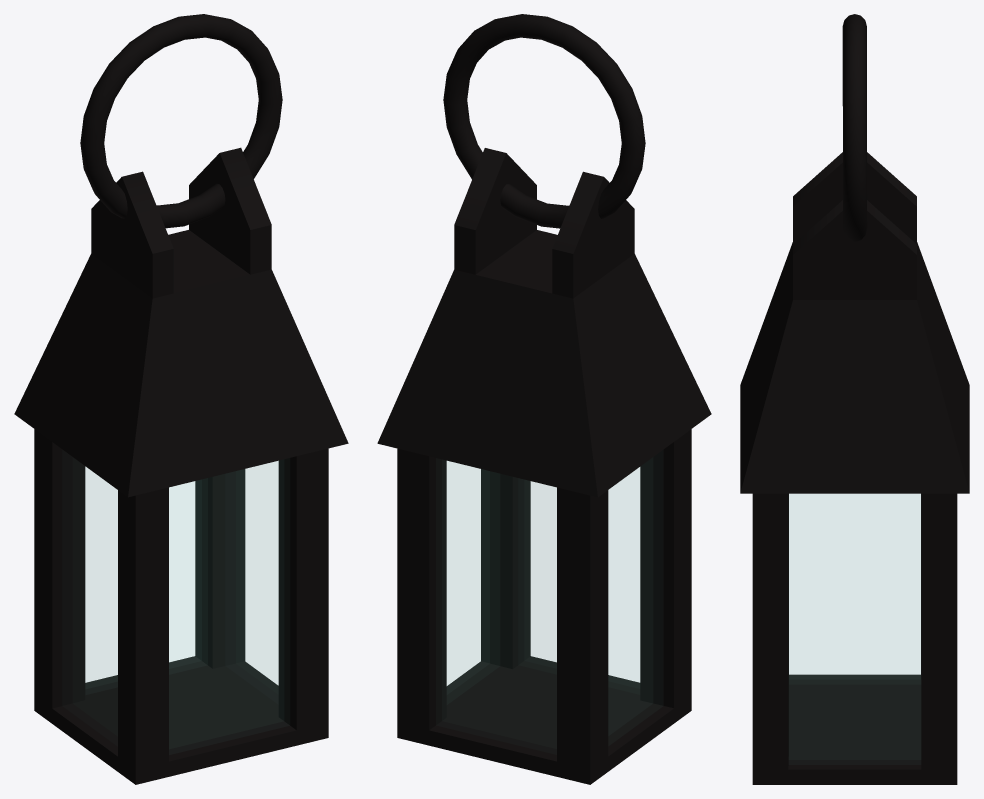
The model's file is Lantern.FBX.
3 views of the same model, side by side, from view 1: azimuth 30°, elevation 25°; view 2: azimuth 150°, elevation 25°; view 3: azimuth 270°, elevation 25° (orthographic).
Visible parts, largest first — view 1: Box003; view 2: Box003; view 3: Box003.
Boxes of the visible parts, <box> form: Box003: <box>14,14,348,784</box>; Box003: <box>377,14,711,784</box>; Box003: <box>740,14,969,784</box>.
Bounding box in the file's own units: 57.65 × 51.47 × 176.
